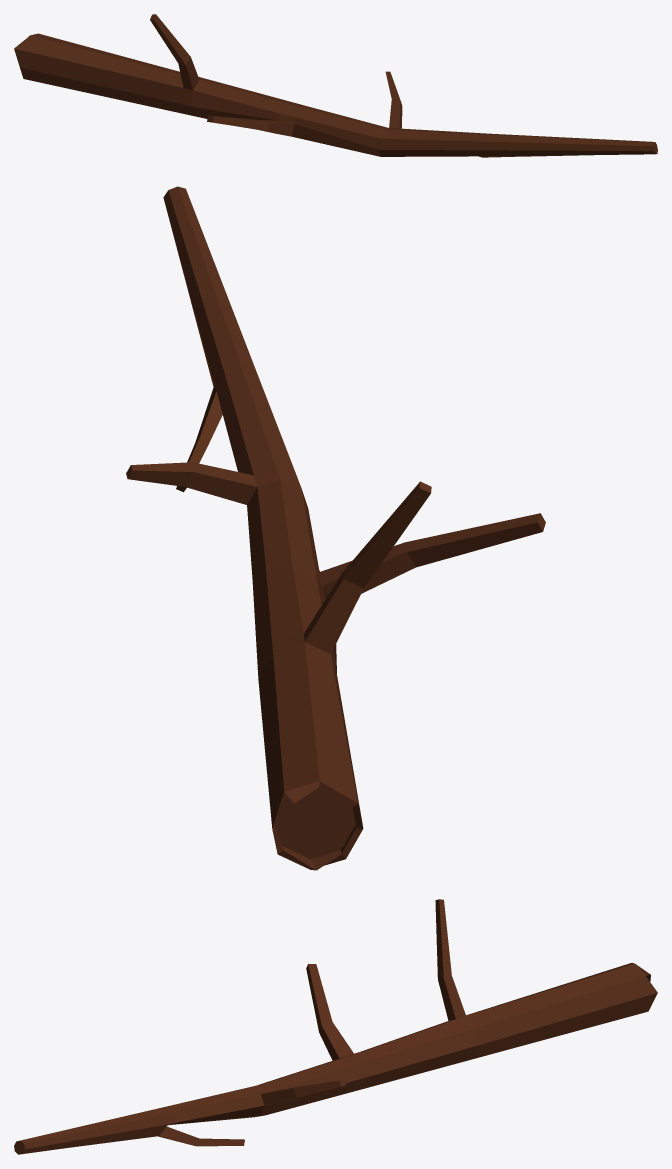
The model's file is normalLog.fbx.
3 views of the same model, one above another, from view 1: azimuth 30°, elevation 25°; view 2: azimuth 150°, elevation 25°; view 3: azimuth 270°, elevation 25° (orthographic). The views are drawn at different scales.
Visible parts, largest first — view 1: Cylinder.101; view 2: Cylinder.101; view 3: Cylinder.101.
Part boxes in pixels (x1,y1,x2,y2): Cylinder.101: [14, 14, 657, 157]; Cylinder.101: [126, 186, 545, 870]; Cylinder.101: [14, 899, 657, 1154].
Size of the model in its own units: 1117 by 348 by 1514.
